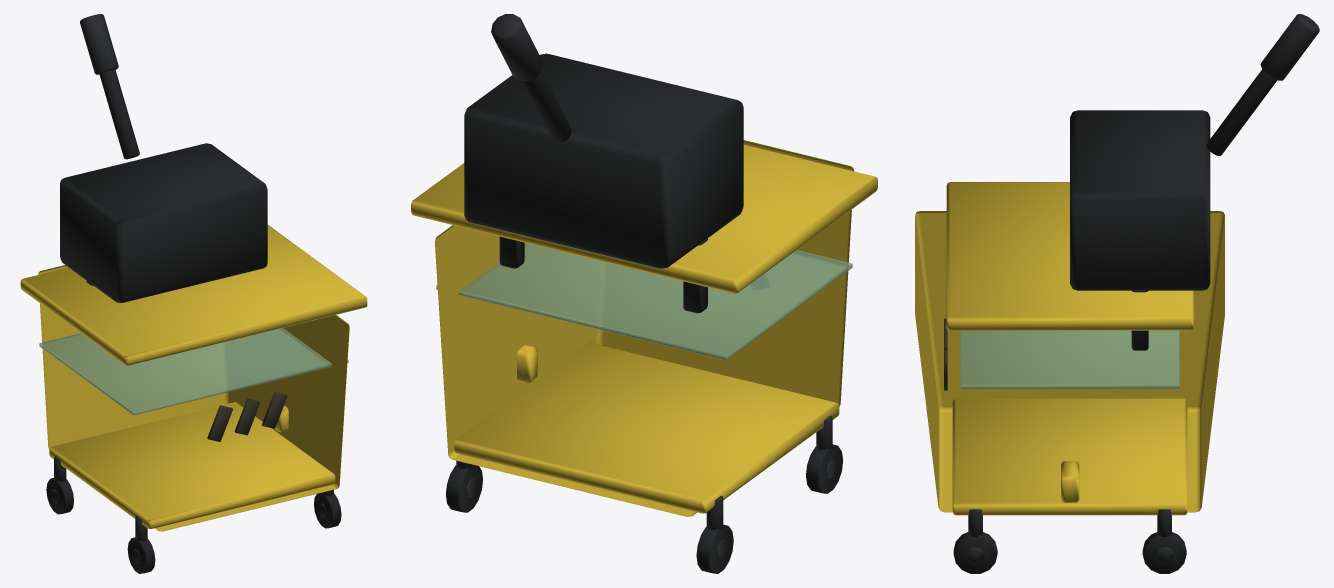
The model's file is asset_073_mop_bucket_and_wringer.glb.
3 views of the same model, side by side, from view 1: azimuth 30°, elevation 25°; view 2: azimuth 150°, elevation 25°; view 3: azimuth 270°, elevation 25° (orthographic). The views are drawn at different scales.
Visible parts, largest first — view 1: MESH_BucketShell, MESH_WringerCage, MESH_BucketWater, MESH_BucketCasters, MESH_WringerLeverArm, MESH_WringerLeverGrip; view 2: MESH_BucketShell, MESH_WringerCage, MESH_BucketWater, MESH_BucketCasters, MESH_WringerLeverGrip, MESH_WringerLeverArm; view 3: MESH_BucketShell, MESH_WringerCage, MESH_BucketWater, MESH_BucketCasters, MESH_WringerLeverGrip, MESH_WringerLeverArm.
Boxes of the visible parts, x1=… form: MESH_BucketShell: x1=20, y1=225, x2=367, y2=531; MESH_WringerCage: x1=60, y1=143, x2=267, y2=302; MESH_BucketWater: x1=39, y1=328, x2=348, y2=415; MESH_BucketCasters: x1=46, y1=456, x2=341, y2=573; MESH_WringerLeverArm: x1=99, y1=69, x2=139, y2=159; MESH_WringerLeverGrip: x1=80, y1=14, x2=118, y2=74; MESH_BucketShell: x1=411, y1=140, x2=877, y2=516; MESH_WringerCage: x1=464, y1=53, x2=743, y2=313; MESH_BucketWater: x1=436, y1=243, x2=852, y2=360; MESH_BucketCasters: x1=445, y1=415, x2=843, y2=573; MESH_WringerLeverGrip: x1=491, y1=14, x2=542, y2=80; MESH_WringerLeverArm: x1=522, y1=71, x2=571, y2=142; MESH_BucketShell: x1=915, y1=182, x2=1224, y2=515; MESH_WringerCage: x1=1070, y1=110, x2=1210, y2=350; MESH_BucketWater: x1=960, y1=330, x2=1179, y2=388; MESH_BucketCasters: x1=953, y1=509, x2=1186, y2=573; MESH_WringerLeverGrip: x1=1260, y1=14, x2=1319, y2=80; MESH_WringerLeverArm: x1=1206, y1=69, x2=1276, y2=155.
Size of the model in its own units: 0.55 by 0.9101 by 0.6637.
